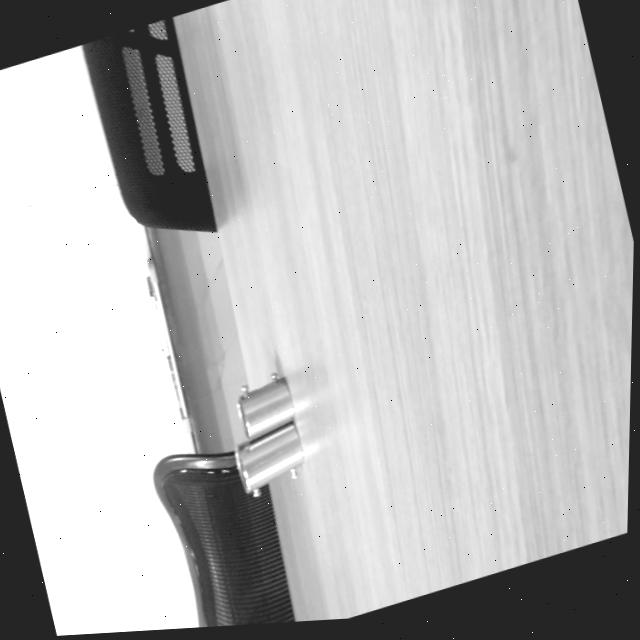Co_Lon: (226, 419, 312, 494)
Co_Nho: (229, 376, 301, 441)
